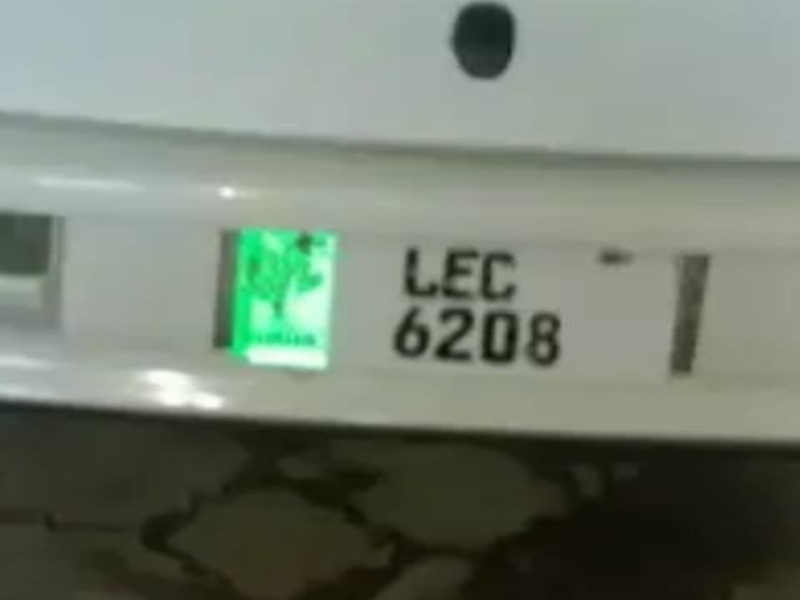License Plate: (215, 221, 677, 400)
